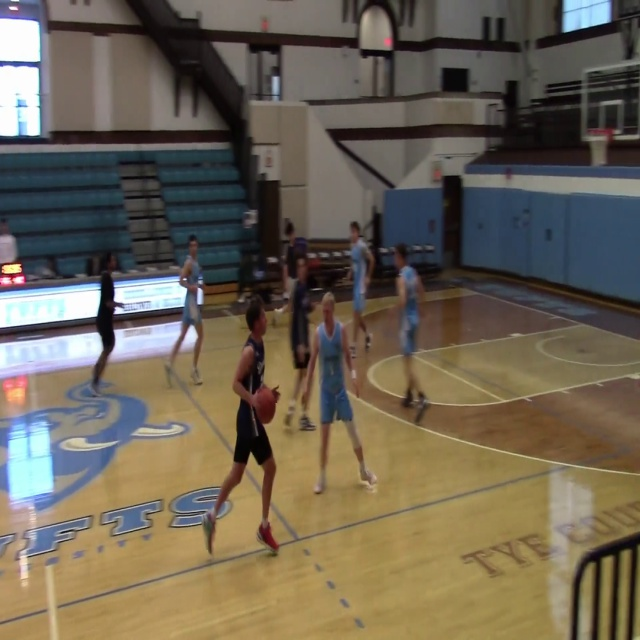Basketball: (252, 386, 277, 424)
